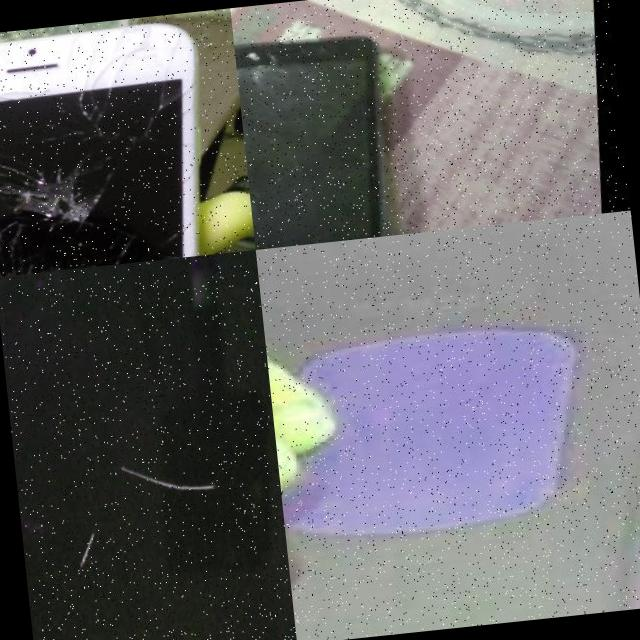scratch: (105, 423, 230, 526), (69, 520, 110, 580)
screen crack: (0, 75, 199, 277), (232, 27, 326, 100)
